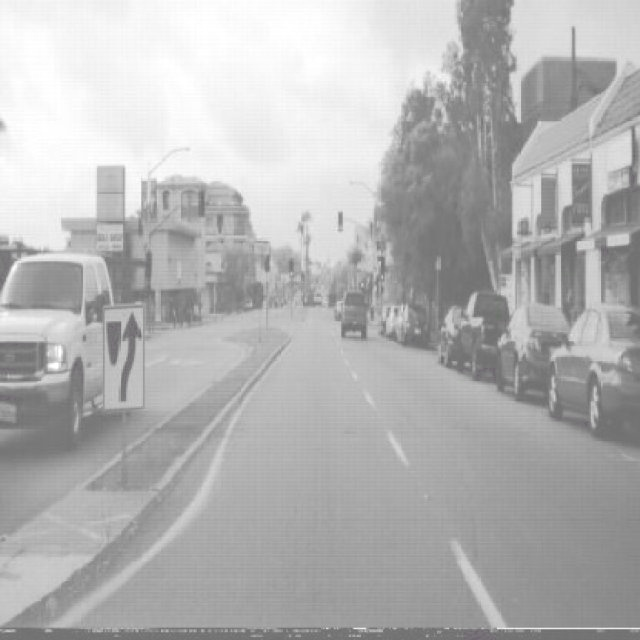keepRight: (101, 300, 146, 413)
